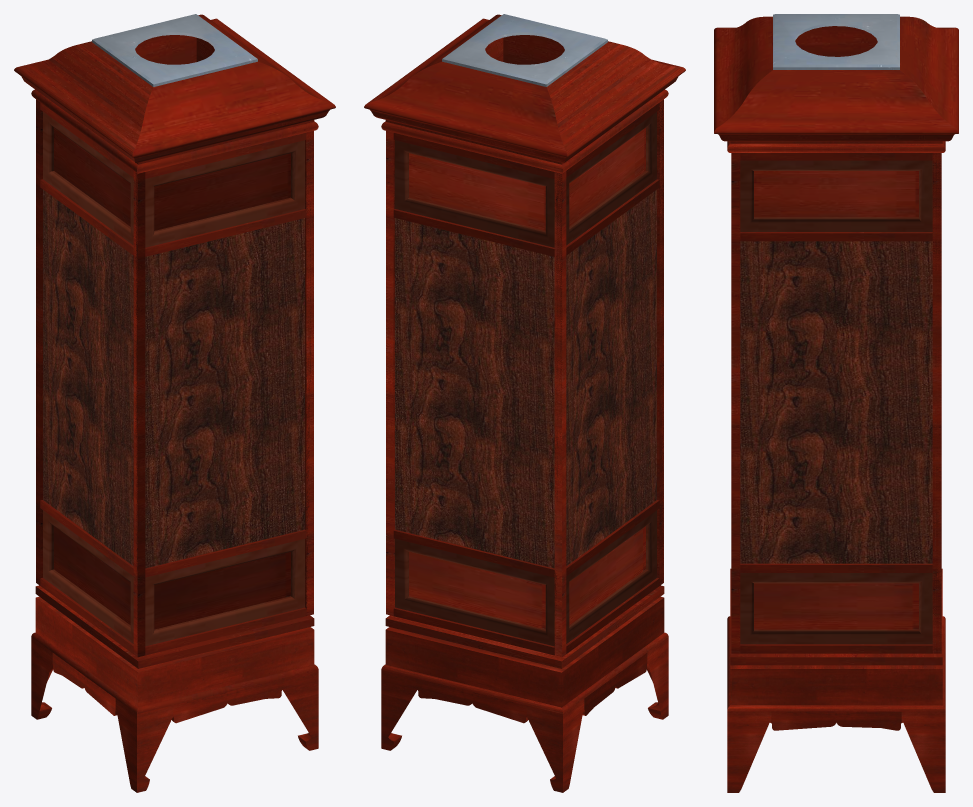
3 views of the same model, side by side, from view 1: azimuth 30°, elevation 25°; view 2: azimuth 150°, elevation 25°; view 3: azimuth 270°, elevation 25° (orthographic). The views are drawn at different scales.
Visible parts, largest first — view 1: 좌등 2; view 2: 좌등 2; view 3: 좌등 2.
Boxes of the visible parts, box(x1,y1,x2,y2) form: 좌등 2: box(14, 14, 335, 792); 좌등 2: box(364, 14, 685, 792); 좌등 2: box(714, 14, 958, 792).
Bounding box in the file's own units: 12.91 × 41.51 × 13.02.
